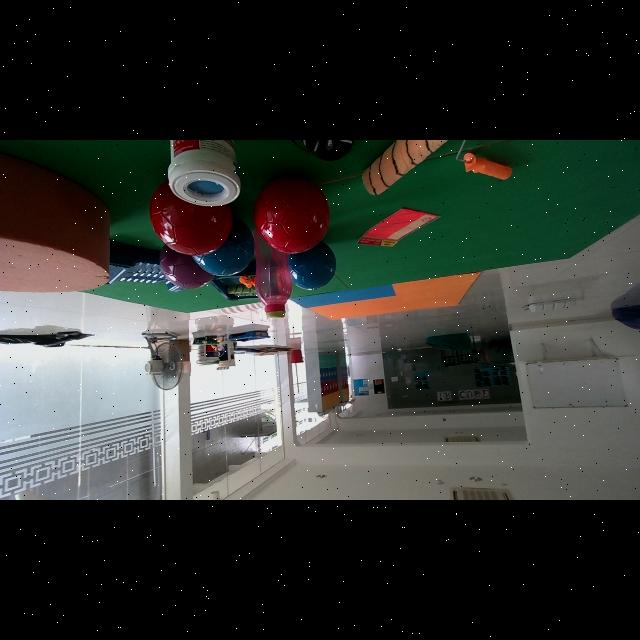B: (192, 218, 254, 277), (289, 241, 336, 290)
P: (159, 245, 214, 289)
R: (149, 180, 232, 256), (254, 176, 329, 254)
